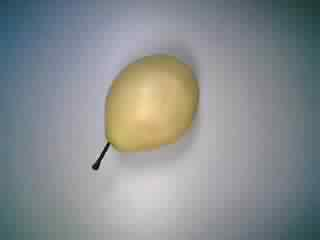pear: (66, 49, 219, 174)
